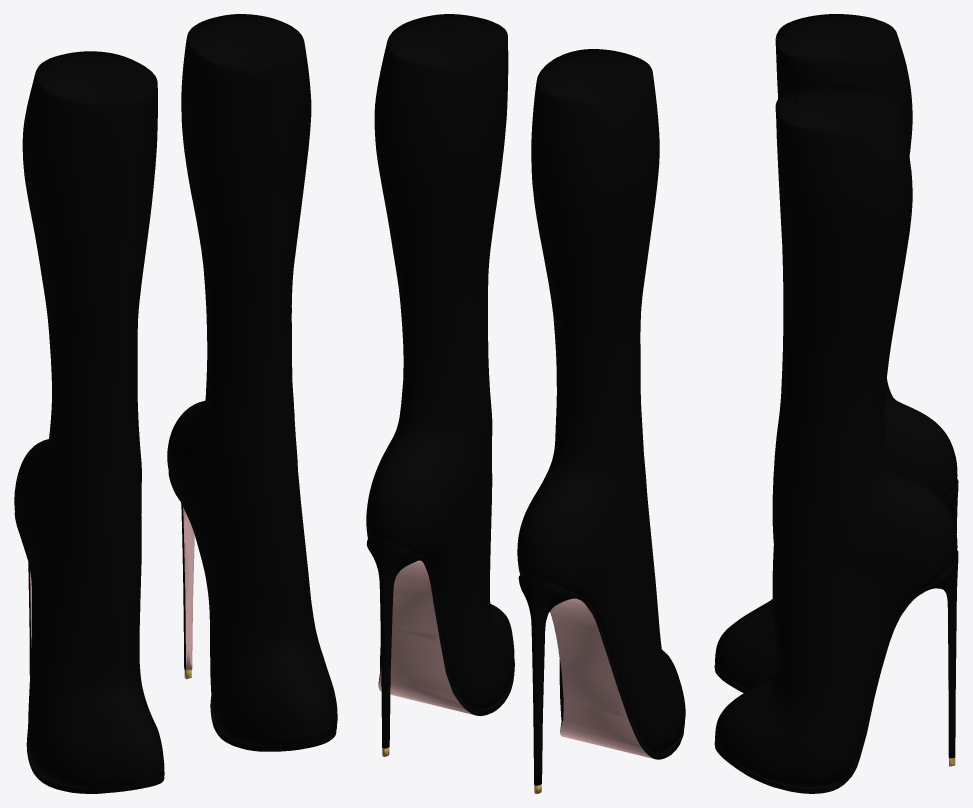
File: kelile_knee_high_stiletto_boots.glb
The picture shows the model from 3 angles, left to right: view 1: azimuth 30°, elevation 25°; view 2: azimuth 150°, elevation 25°; view 3: azimuth 270°, elevation 25°; orthographic projection. The views are drawn at different scales.
Parts seen in each view (by area): view 1: Object_2; view 2: Object_2; view 3: Object_2.
Part boxes in pixels (x1,y1,x2,y2): Object_2: (14,14,337,793); Object_2: (366,14,685,793); Object_2: (714,14,958,793).
Size of the model in its own units: 0.2567 by 0.5896 by 0.1987.
Materials: 1 (1 with a texture image).
